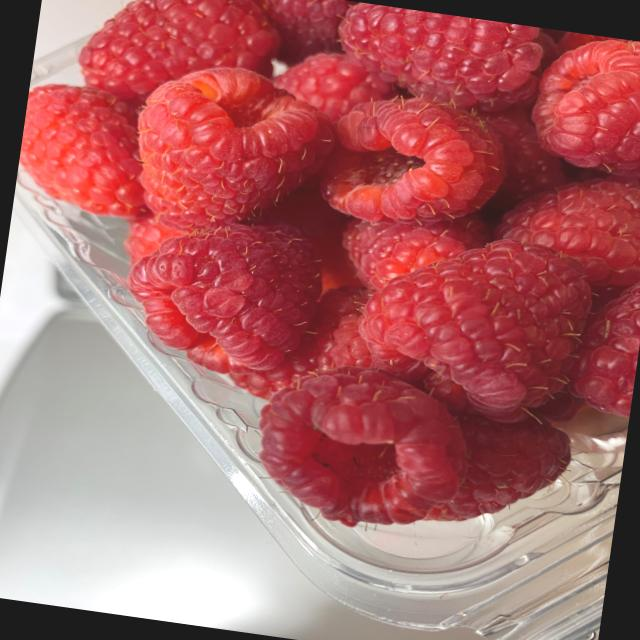raspberries: (47, 0, 640, 570)
